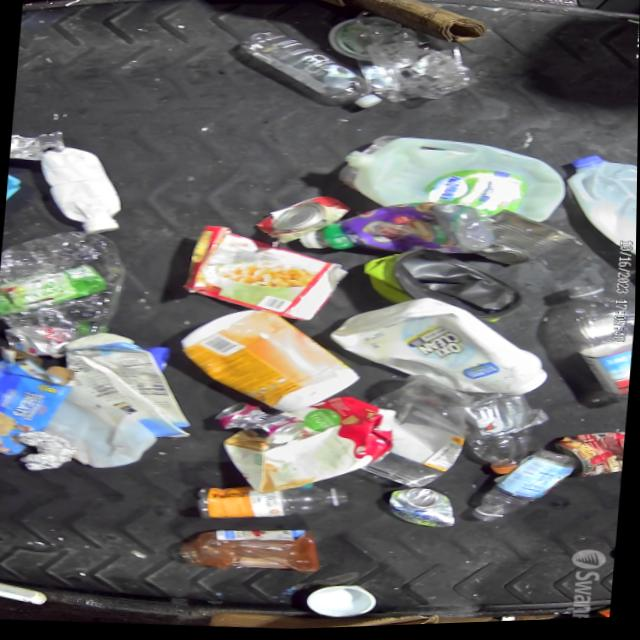can: (259, 192, 350, 244), (215, 400, 309, 448), (566, 426, 626, 482), (393, 489, 464, 531)
milk_jug: (328, 298, 551, 416), (362, 142, 567, 220), (561, 149, 638, 258)
non_white_jug: (186, 308, 363, 420), (373, 244, 525, 324)
plastic_bottle: (3, 225, 128, 364), (238, 30, 386, 117), (547, 289, 636, 399), (473, 447, 573, 534), (469, 395, 533, 479)
